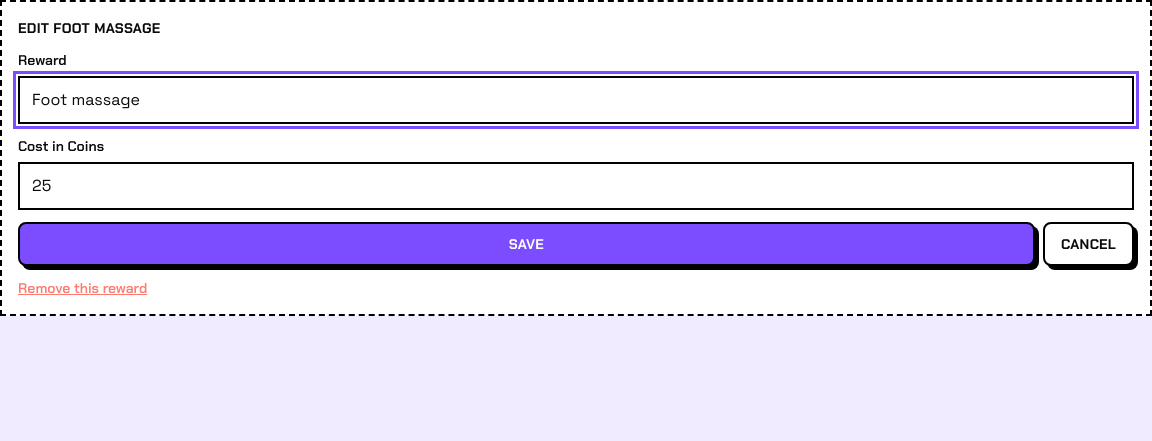
Test: removing › asks first, and sends nothing until it is confirmed
Click the button "Remove this reward". click: (83, 288)
box: 18,278 -> 147,298
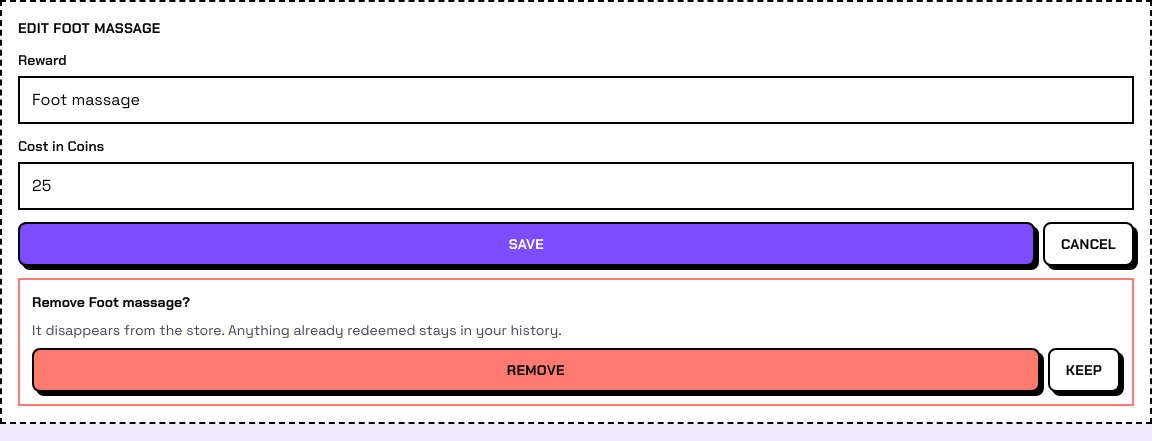
Now the text "Remove Foot massage?" is shown, box 32,293 -> 190,311
